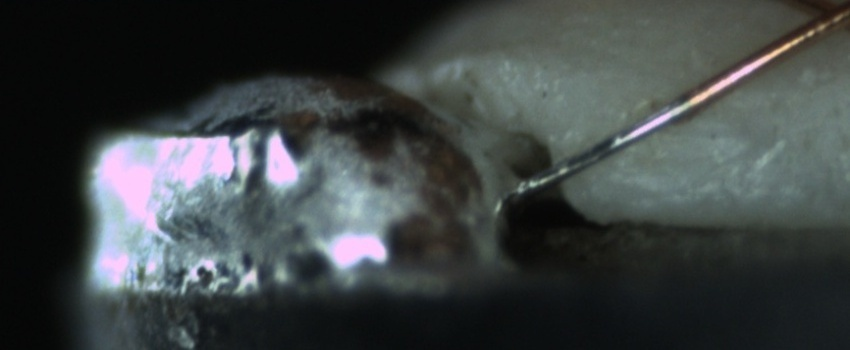TS: (515, 99, 690, 199)
